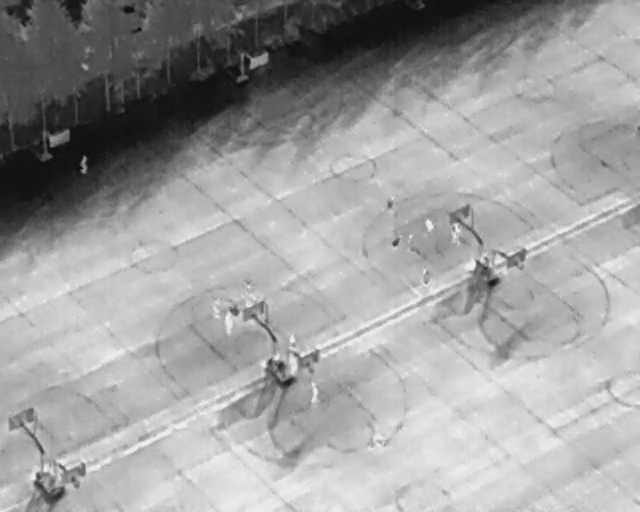Person: (223, 311, 234, 336), (388, 232, 403, 250), (309, 382, 320, 404), (287, 354, 299, 374), (79, 154, 89, 175), (421, 268, 432, 286), (288, 334, 298, 353), (452, 223, 461, 244), (387, 196, 396, 213), (212, 302, 221, 318), (425, 219, 435, 232), (244, 280, 252, 295)
